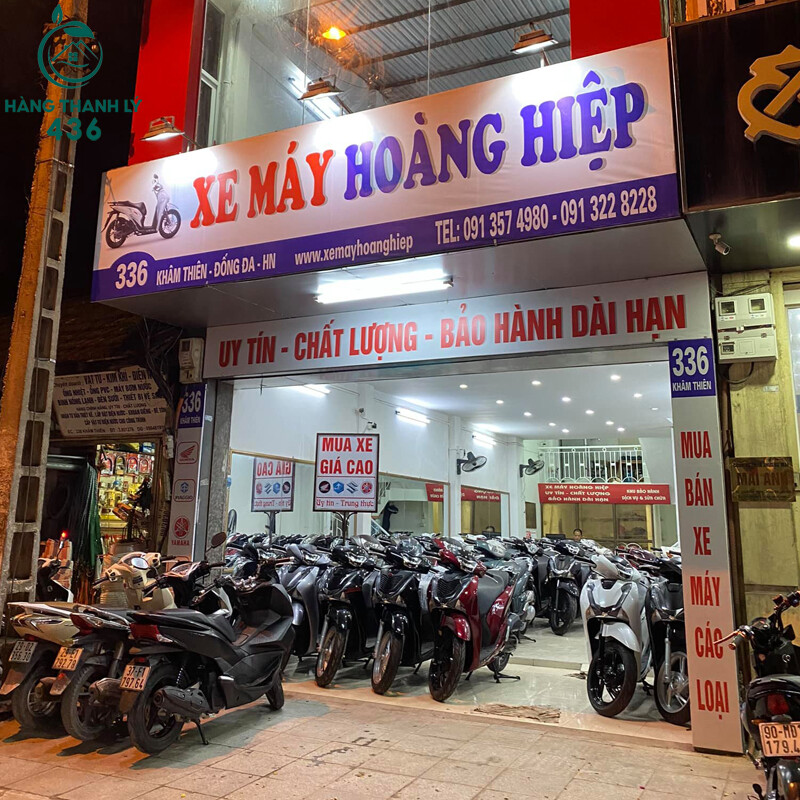bien_so: (117, 660, 155, 692), (51, 642, 85, 673), (7, 638, 39, 666)
